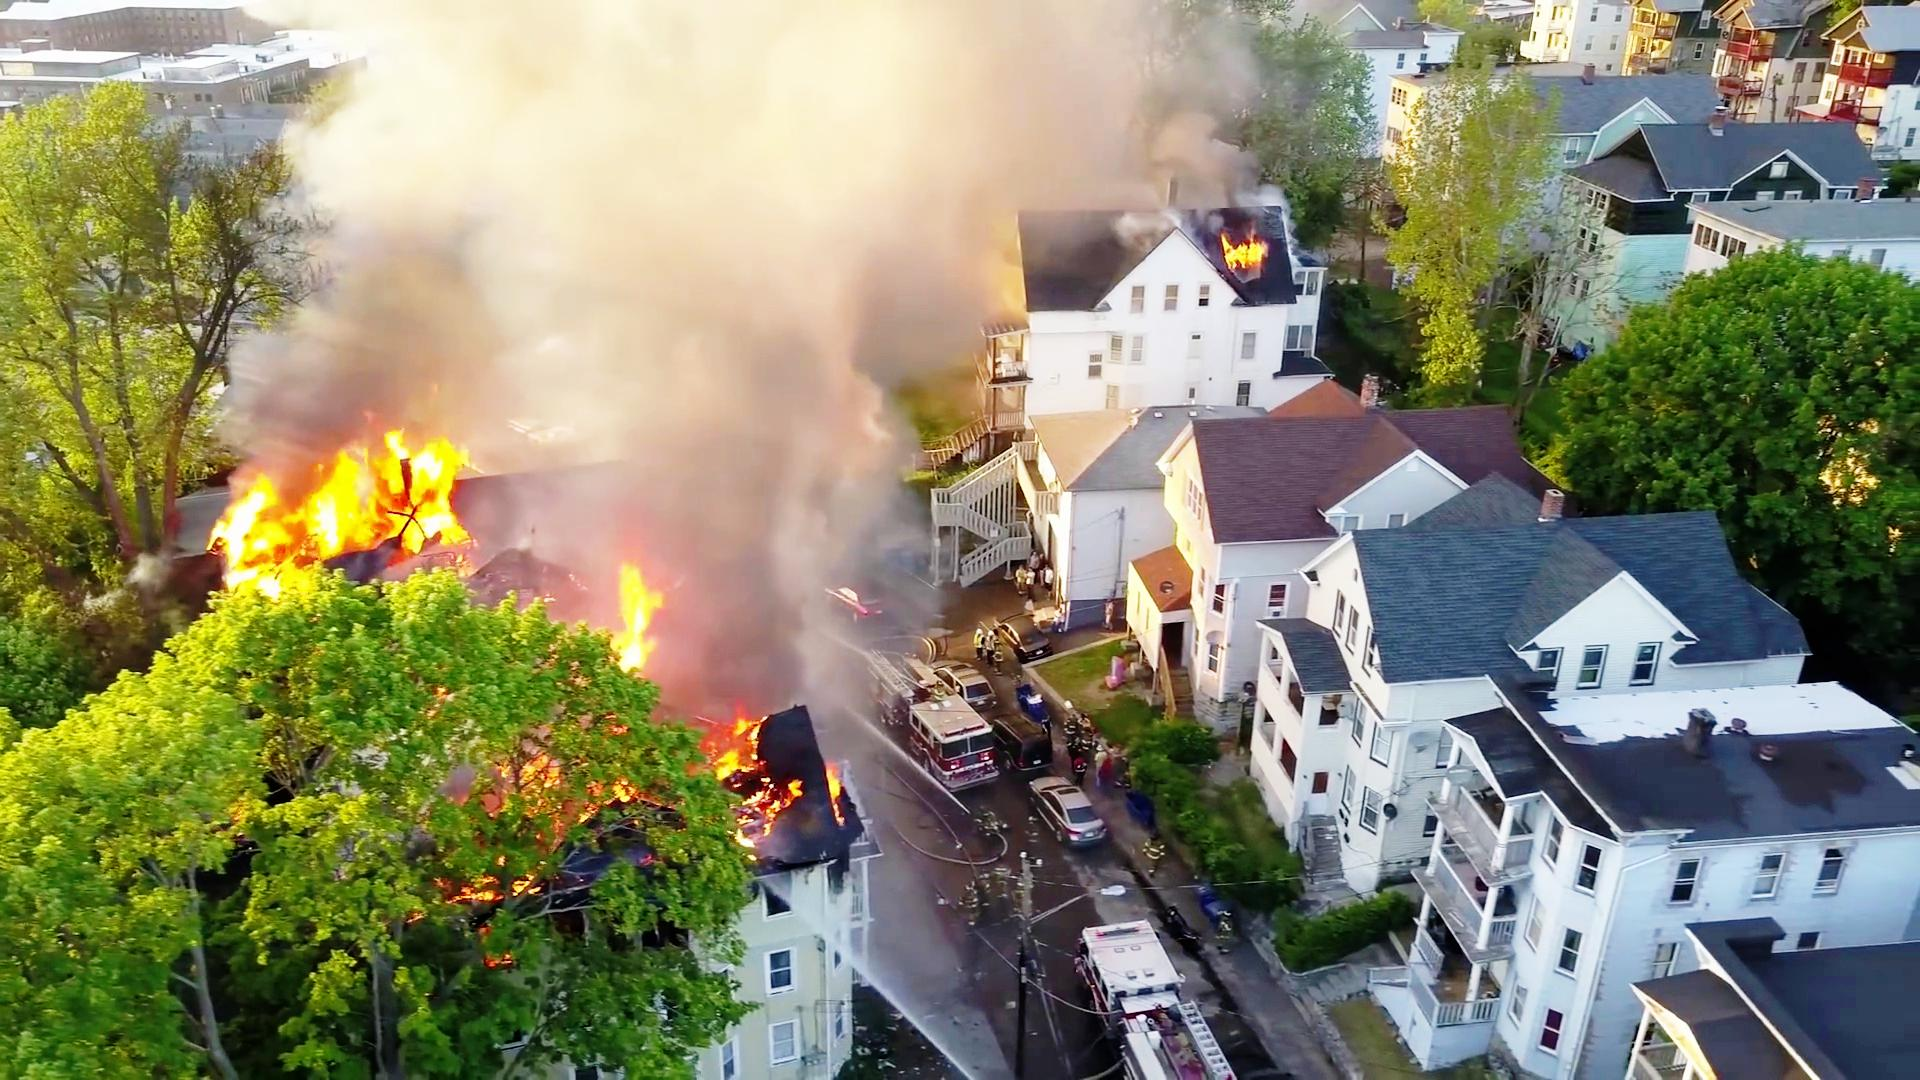fire: (240, 438, 479, 584), (605, 578, 675, 692)
smoke: (404, 11, 924, 369)
